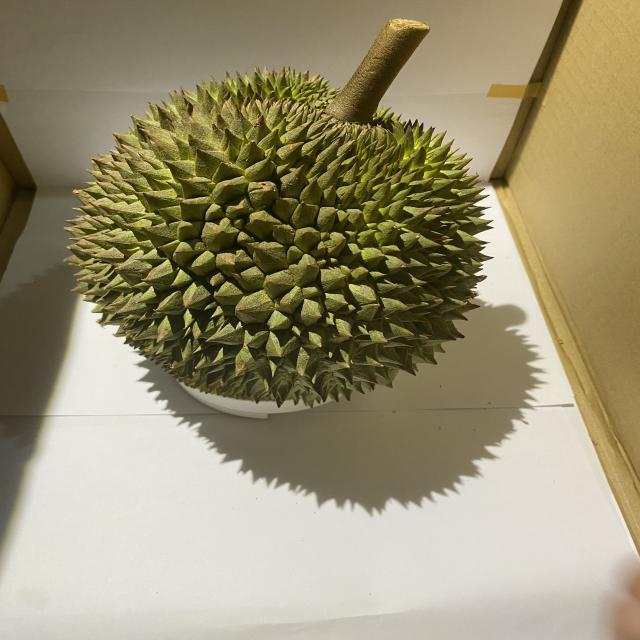immature: (62, 64, 499, 410)
